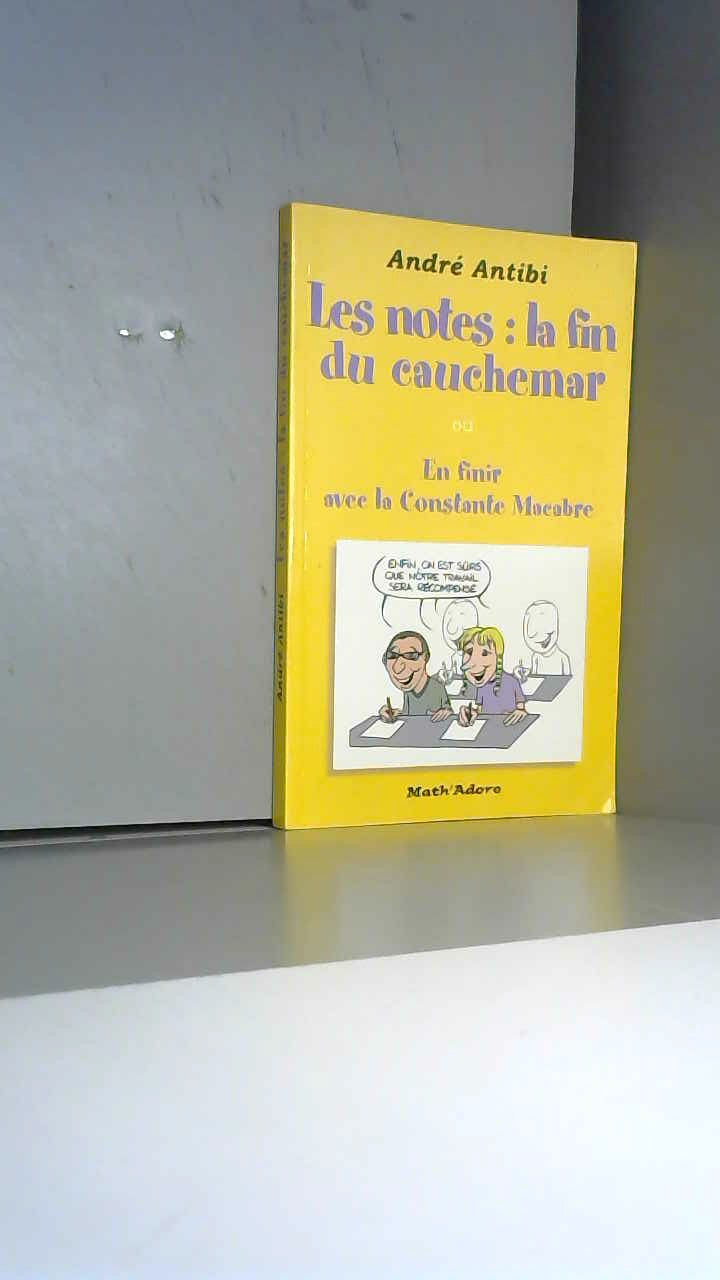book: (260, 170, 720, 909)
